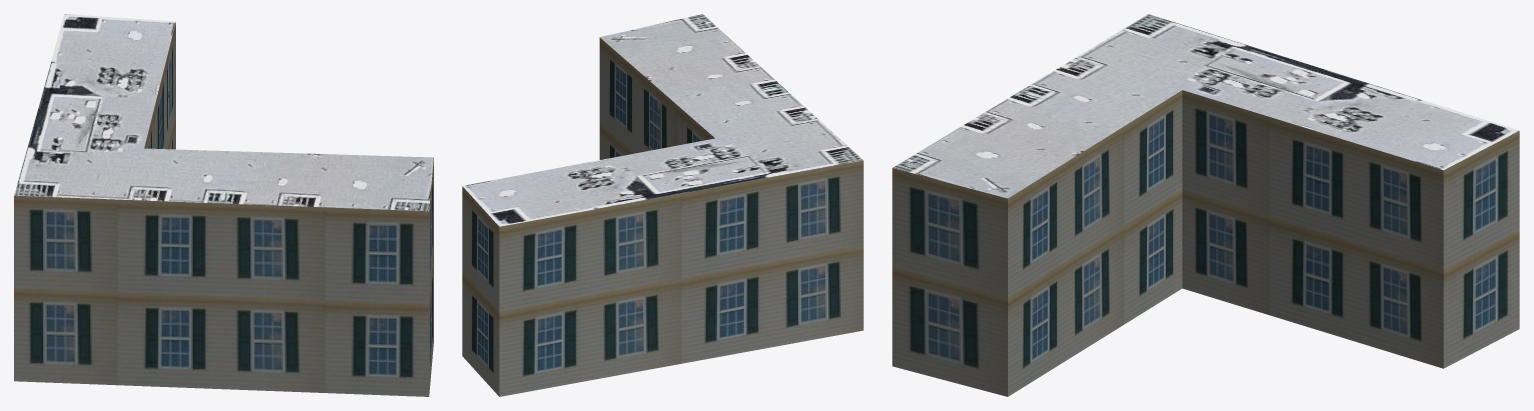
The model's file is ResTex__1950.fbx.
3 renders of one model, left to right at view 1: azimuth 30°, elevation 25°; view 2: azimuth 150°, elevation 25°; view 3: azimuth 270°, elevation 25°, orthographic. The views are drawn at different scales.
Parts seen in each view (by area): view 1: CityEngineMaterial_7_m, CityEngineMaterial_2_m; view 2: CityEngineMaterial_7_m, CityEngineMaterial_2_m; view 3: CityEngineMaterial_7_m, CityEngineMaterial_2_m.
Part boxes in pixels (x1,y1,x2,y2): CityEngineMaterial_7_m: (14,22,433,396); CityEngineMaterial_2_m: (14,14,433,211); CityEngineMaterial_7_m: (462,37,863,396); CityEngineMaterial_2_m: (462,14,863,226); CityEngineMaterial_7_m: (892,90,1519,396); CityEngineMaterial_2_m: (893,14,1518,198).
Size of the model in its own units: 11.97 by 6 by 17.19.
Materials: 2 (2 with a texture image).
